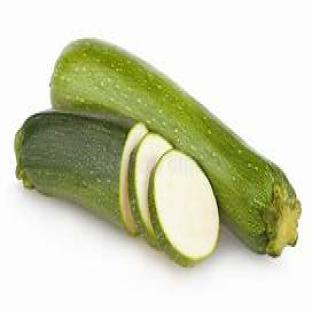Zucchini: (51, 39, 300, 256), (15, 112, 146, 233), (150, 151, 219, 265), (129, 132, 172, 246)
